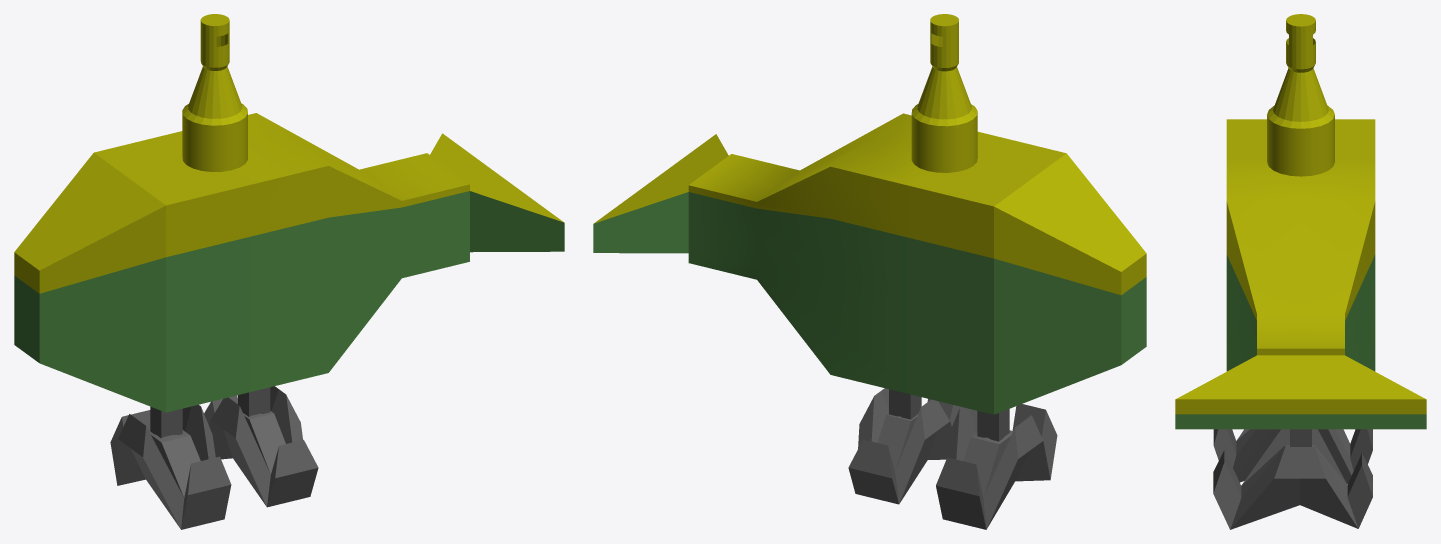
Rendered from Rare Bait.fbx.
3 views of the same model, side by side, from view 1: azimuth 30°, elevation 25°; view 2: azimuth 150°, elevation 25°; view 3: azimuth 270°, elevation 25° (orthographic). The views are drawn at different scales.
Visible parts, largest first — view 1: Fish_Bait, Hook, Hook1, pCylinder1, Hook_Attachment, Hook_Attachment1; view 2: Fish_Bait, Hook, Hook1, pCylinder1, Hook_Attachment, Hook_Attachment1; view 3: Fish_Bait, Hook1, pCylinder1, Hook, Hook_Attachment1.
Part boxes in pixels (x1,y1,x2,y2): Fish_Bait: (14, 113, 564, 412); Hook: (110, 404, 231, 529); Hook1: (204, 386, 318, 507); pCylinder1: (182, 14, 247, 171); Hook_Attachment: (150, 406, 182, 438); Hook_Attachment1: (238, 387, 270, 416); Fish_Bait: (593, 113, 1146, 414); Hook: (936, 404, 1057, 529); Hook1: (848, 388, 960, 504); pCylinder1: (911, 14, 977, 172); Hook_Attachment: (977, 409, 1009, 441); Hook_Attachment1: (889, 389, 921, 419); Fish_Bait: (1175, 119, 1426, 429); Hook1: (1213, 429, 1372, 529); pCylinder1: (1267, 14, 1334, 176); Hook: (1213, 429, 1372, 484); Hook_Attachment1: (1290, 429, 1311, 446).
Bounding box in the file's own units: 0.9092 × 0.8558 × 0.4042.
